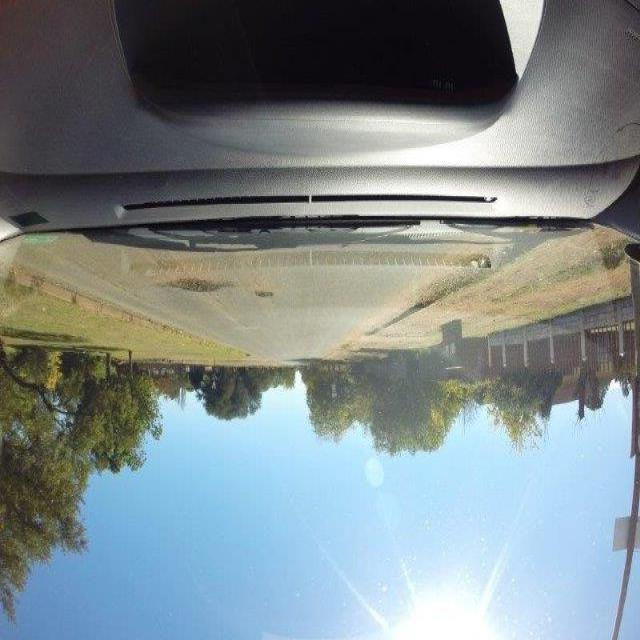lubang: (159, 270, 233, 298), (255, 290, 278, 302)
